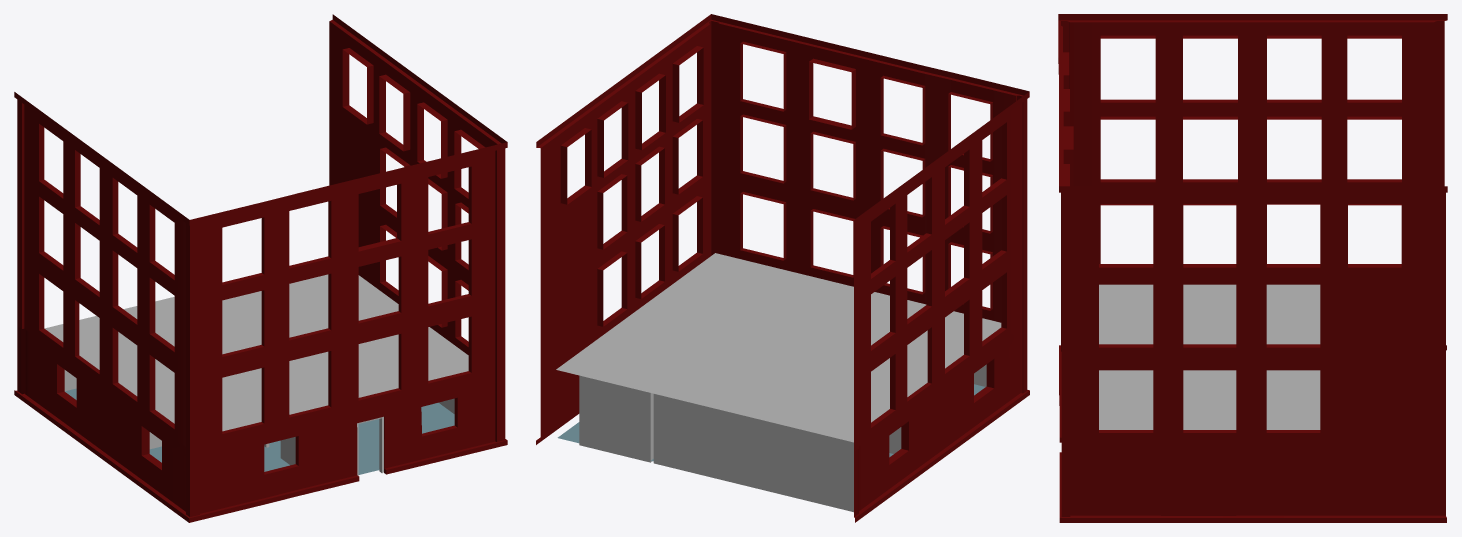
File: MainApartmentBuilding.fbx
3 renders of one model, left to right at view 1: azimuth 30°, elevation 25°; view 2: azimuth 150°, elevation 25°; view 3: azimuth 270°, elevation 25°, orthographic. The views are drawn at different scales.
Visible parts, largest first — view 1: MainApartmentWall_UV, Cieling_low, Floor_low; view 2: MainApartmentWall_UV, Cieling_low; view 3: MainApartmentWall_UV, Cieling_low.
Part boxes in pixels (x1,y1,x2,y2): MainApartmentWall_UV: [14, 14, 507, 522]; Cieling_low: [44, 274, 468, 431]; Floor_low: [65, 388, 454, 474]; MainApartmentWall_UV: [536, 14, 1029, 522]; Cieling_low: [556, 253, 1001, 442]; MainApartmentWall_UV: [1058, 14, 1447, 522]; Cieling_low: [1099, 284, 1320, 429].
Size of the model in its own units: 13.14 by 11.94 by 12.51.
